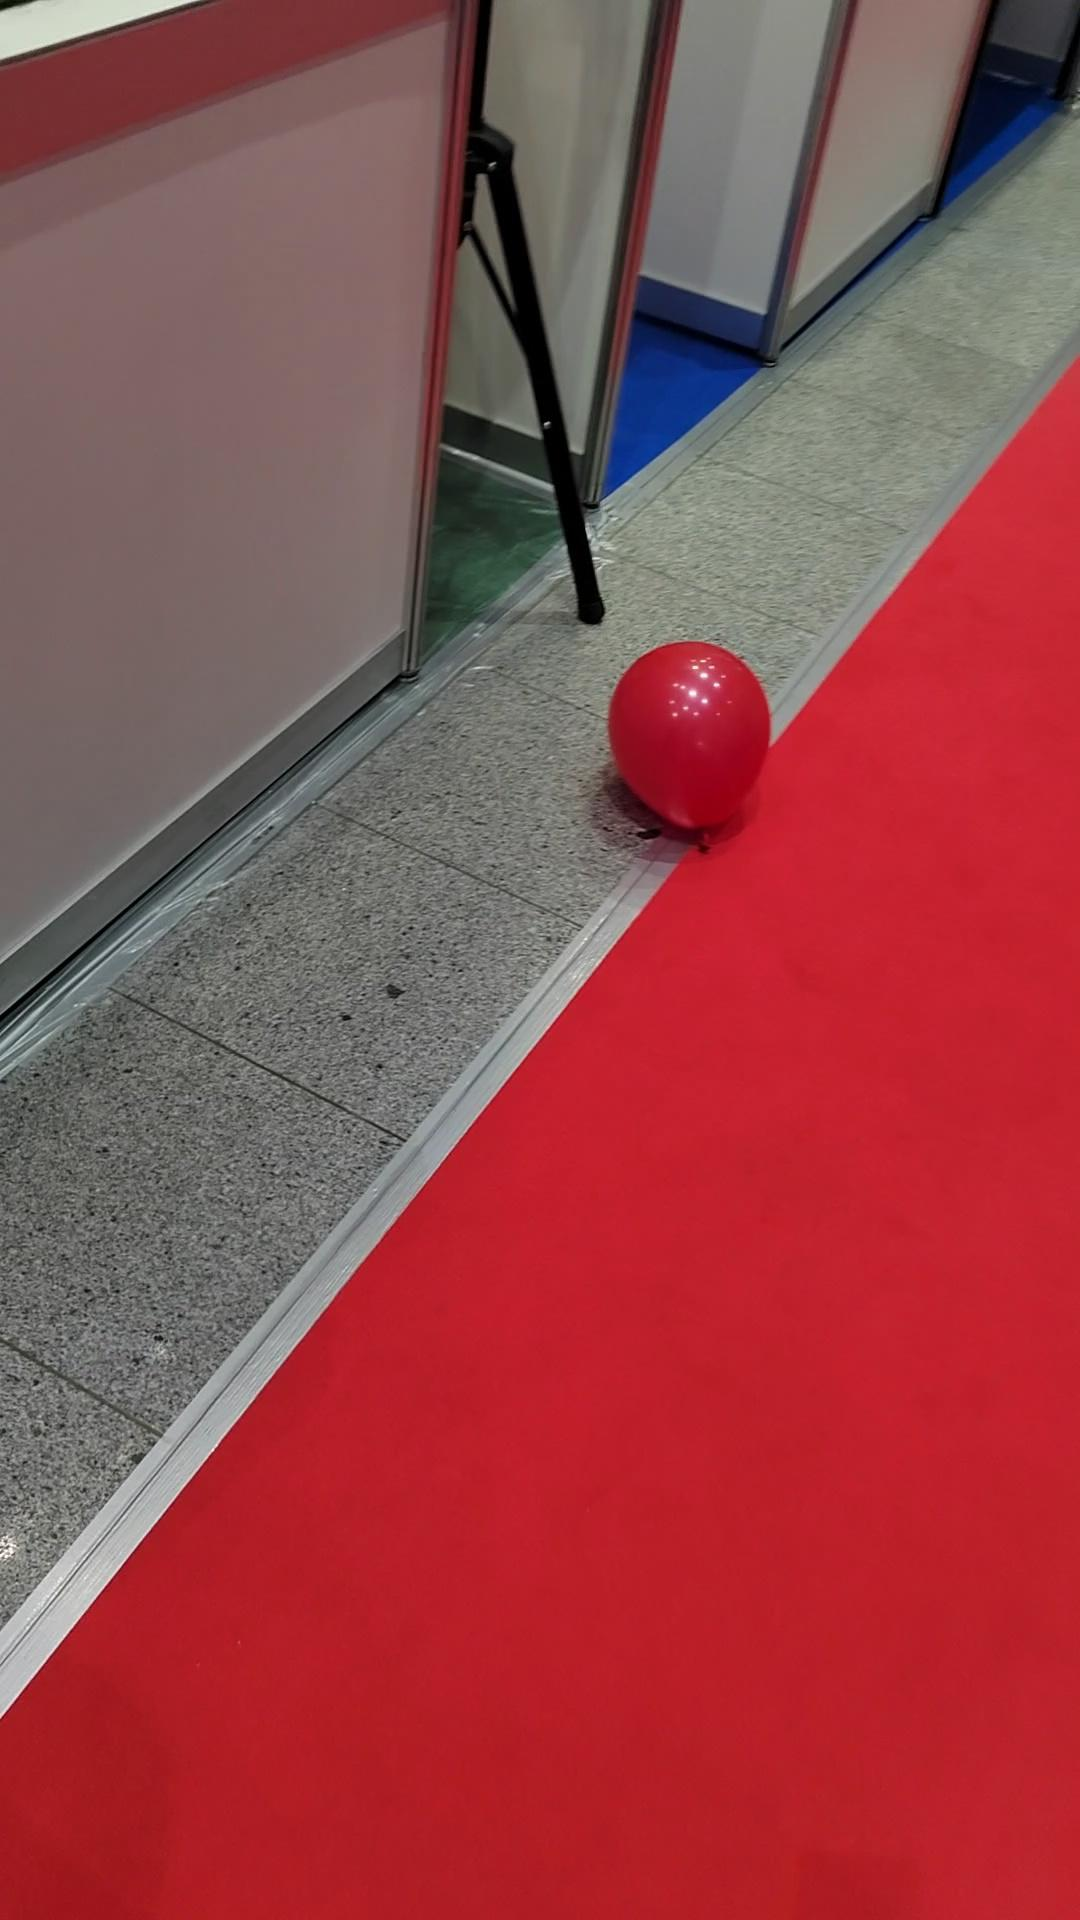red: (604, 636, 779, 841)
